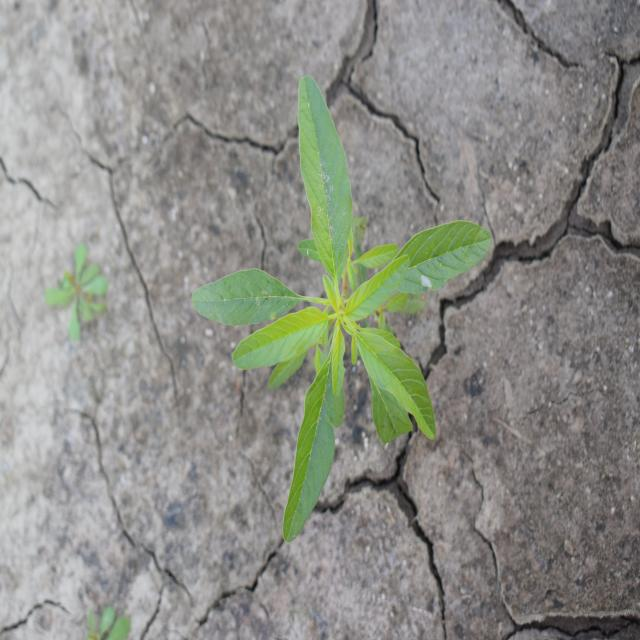Waterhemp: (188, 73, 494, 546)
